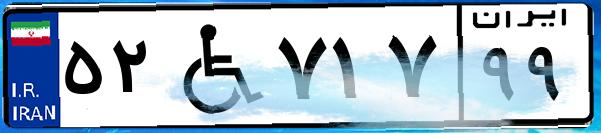1: (330, 28, 385, 110)
2: (110, 28, 158, 98)
5: (57, 26, 110, 100)
7: (270, 28, 330, 110), (385, 28, 445, 110)
9: (475, 38, 525, 113), (525, 38, 570, 115)
ژ (معلولین و جانبازان): (158, 12, 270, 120)
